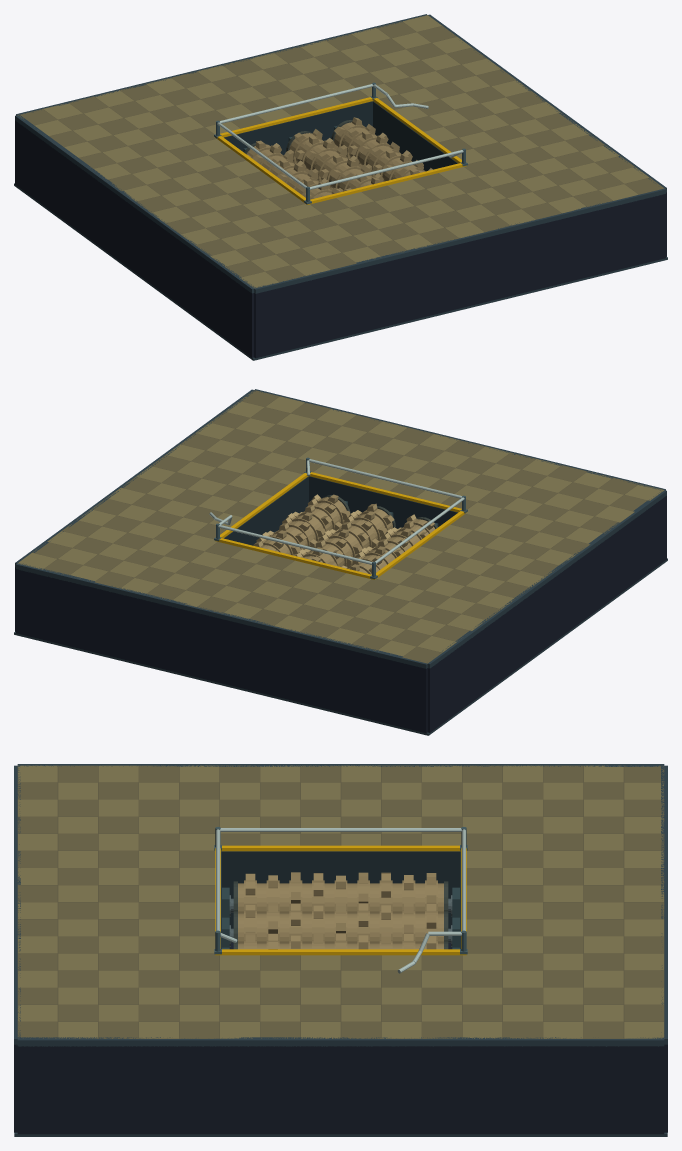
Rendered from TheGrinder_Map.fbx.
3 views of the same model, one above another, from view 1: azimuth 30°, elevation 25°; view 2: azimuth 150°, elevation 25°; view 3: azimuth 270°, elevation 25° (orthographic). The views are drawn at different scales.
Parts seen in each view (by area): view 1: Platform_TiledSurface_OneMesh, Platform_BodyEnd, Platform_BodySide, Rotor_02_CompleteMesh, Rotor_03_CompleteMesh, Pit_YellowSafetyRim, Platform_UpperEdge.002, Pit_EndWall.001, Platform_UpperEdge, Pit_SideWall.001, Rotor_01_CompleteMesh, GuardRail_Fixed (+3 smaller); view 2: Platform_TiledSurface_OneMesh, Platform_BodyEnd.001, Platform_BodySide, Platform_UpperEdge.003, Rotor_02_CompleteMesh, Rotor_03_CompleteMesh, Pit_YellowSafetyRim, Pit_EndWall, Platform_UpperEdge, Pit_SideWall.001, Rotor_01_CompleteMesh, Platform_Underside (+3 smaller); view 3: Platform_TiledSurface_OneMesh, Platform_BodySide.001, Pit_SideWall, Rotor_01_CompleteMesh, Rotor_02_CompleteMesh, Platform_UpperEdge.001, Pit_YellowSafetyRim, GuardRail_Fixed, Rotor_03_CompleteMesh, Platform_Underside, Platform_UpperEdge, Platform_UpperEdge.003 (+1 smaller).
Boxes of the visible parts, x1,y1,x2,y2 form: Platform_TiledSurface_OneMesh: (17, 15, 664, 288); Platform_BodyEnd: (254, 194, 665, 358); Platform_BodySide: (15, 120, 254, 357); Rotor_02_CompleteMesh: (286, 129, 383, 191); Rotor_03_CompleteMesh: (331, 117, 432, 181); Pit_YellowSafetyRim: (215, 97, 466, 204); Platform_UpperEdge.002: (254, 188, 665, 293); Pit_EndWall.001: (224, 101, 372, 155); Platform_UpperEdge: (15, 115, 255, 293); Pit_SideWall.001: (373, 101, 457, 171); Rotor_01_CompleteMesh: (244, 140, 340, 199); GuardRail_Fixed: (217, 84, 463, 189); Platform_TiledSurface_OneMesh: (17, 390, 664, 663); Platform_BodyEnd.001: (16, 569, 427, 733); Platform_BodySide: (427, 496, 666, 732); Platform_UpperEdge.003: (16, 562, 427, 668); Rotor_02_CompleteMesh: (295, 503, 395, 567); Rotor_03_CompleteMesh: (253, 494, 350, 555); Pit_YellowSafetyRim: (215, 472, 466, 579); Pit_EndWall: (309, 476, 457, 528); Platform_UpperEdge: (427, 490, 666, 668); Pit_SideWall.001: (224, 476, 308, 545); Rotor_01_CompleteMesh: (341, 514, 437, 574); Platform_Underside: (14, 558, 667, 735); Platform_TiledSurface_OneMesh: (17, 765, 664, 1038); Platform_BodySide.001: (17, 1046, 664, 1134); Pit_SideWall: (222, 851, 459, 928); Rotor_01_CompleteMesh: (231, 872, 450, 913); Rotor_02_CompleteMesh: (231, 902, 450, 943); Platform_UpperEdge.001: (17, 1037, 664, 1046); Pit_YellowSafetyRim: (215, 845, 466, 955); GuardRail_Fixed: (216, 828, 465, 973); Rotor_03_CompleteMesh: (233, 932, 448, 949); Platform_Underside: (14, 1132, 667, 1136); Platform_UpperEdge: (17, 764, 664, 766); Platform_UpperEdge.003: (661, 765, 667, 1044).
Bounding box in the file's own units: 20.22 × 4.06 × 20.22.
